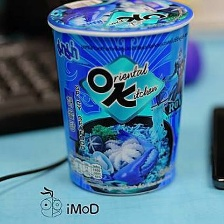paper_cup: (42, 0, 198, 201)
